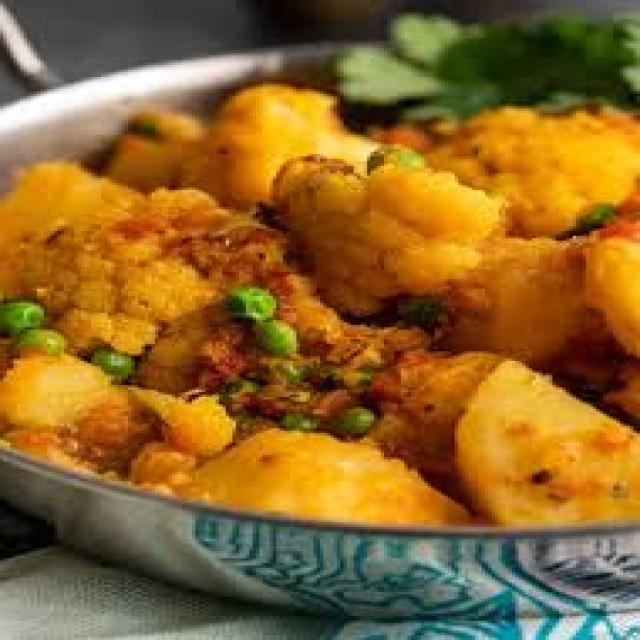Aloo Gobi: (102, 90, 640, 512)
